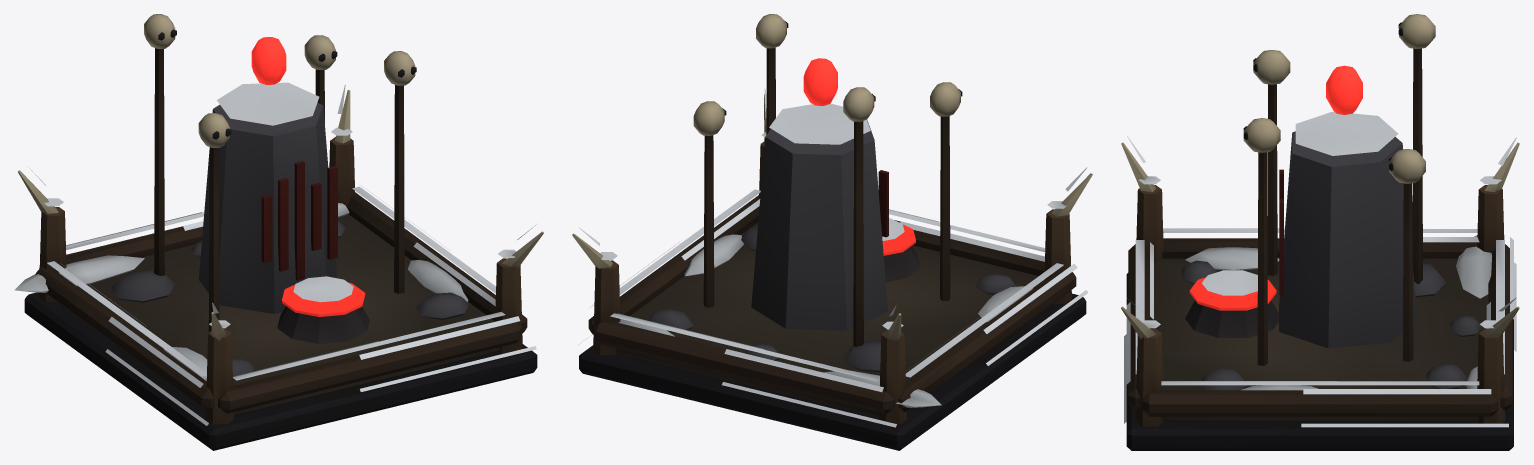
The model's file is horde-8.glb.
The picture shows the model from 3 angles, left to right: view 1: azimuth 30°, elevation 25°; view 2: azimuth 150°, elevation 25°; view 3: azimuth 270°, elevation 25°; orthographic projection. The views are drawn at different scales.
Visible parts, largest first — view 1: orage_8_architecture, Sang, Goutte; view 2: orage_8_architecture, Goutte, Sang; view 3: orage_8_architecture, Goutte, Sang.
Boxes of the visible parts, bbox=[...] form: orage_8_architecture: bbox=[14, 14, 543, 450]; Sang: bbox=[282, 282, 365, 316]; Goutte: bbox=[251, 37, 286, 84]; orage_8_architecture: bbox=[572, 14, 1092, 450]; Goutte: bbox=[803, 58, 837, 105]; Sang: bbox=[882, 224, 915, 255]; orage_8_architecture: bbox=[1121, 14, 1519, 450]; Goutte: bbox=[1326, 65, 1362, 114]; Sang: bbox=[1189, 277, 1276, 310].
Size of the model in its own units: 0.8655 by 0.7281 by 0.8237.
